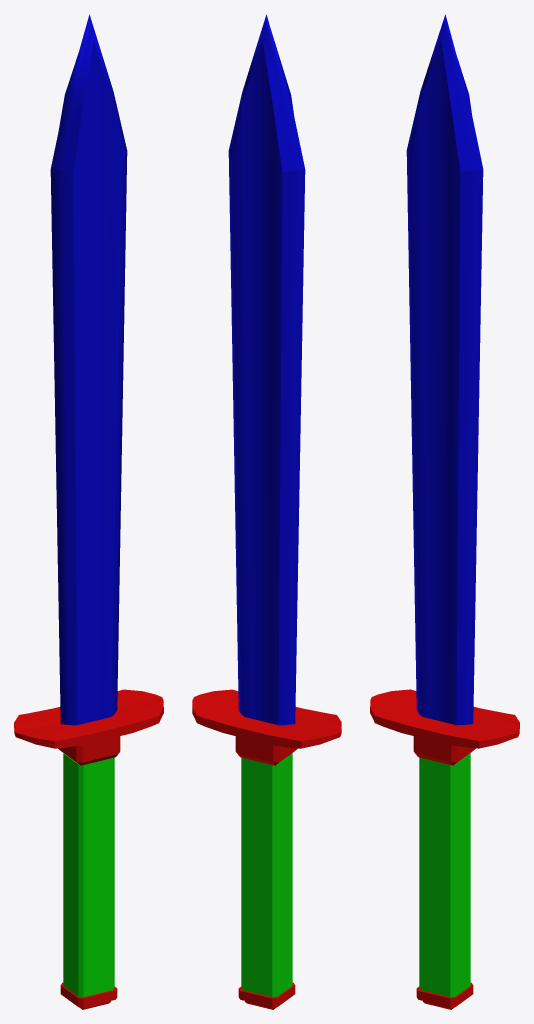
File: sword.fbx
The picture shows the model from 3 angles, left to right: view 1: azimuth 30°, elevation 25°; view 2: azimuth 150°, elevation 25°; view 3: azimuth 330°, elevation 25°; orthographic projection.
Visible parts, largest first — view 1: pCube6; view 2: pCube6; view 3: pCube6.
Boxes of the visible parts, bbox=[...] form: pCube6: bbox=[14, 14, 163, 1009]; pCube6: bbox=[192, 14, 341, 1009]; pCube6: bbox=[370, 14, 519, 1009].
Bounding box in the file's own units: 6.49 × 41.83 × 2.75.
